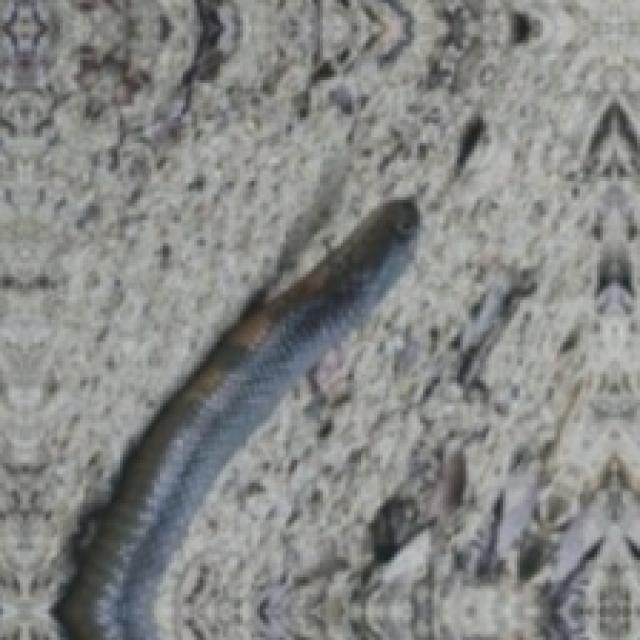king cobra: (57, 197, 417, 637)
